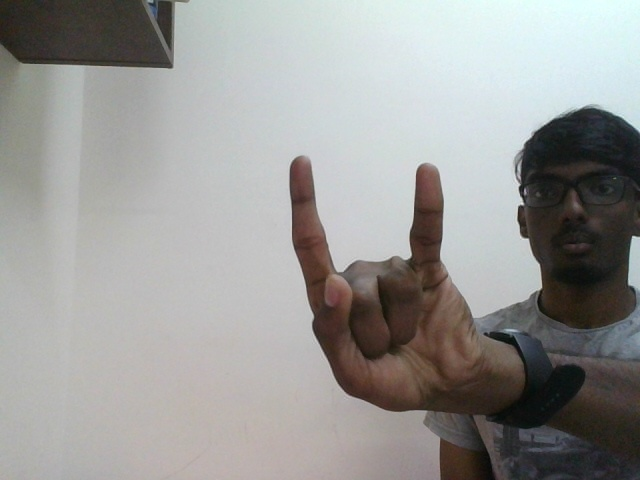I Love You: (290, 155, 443, 407)
